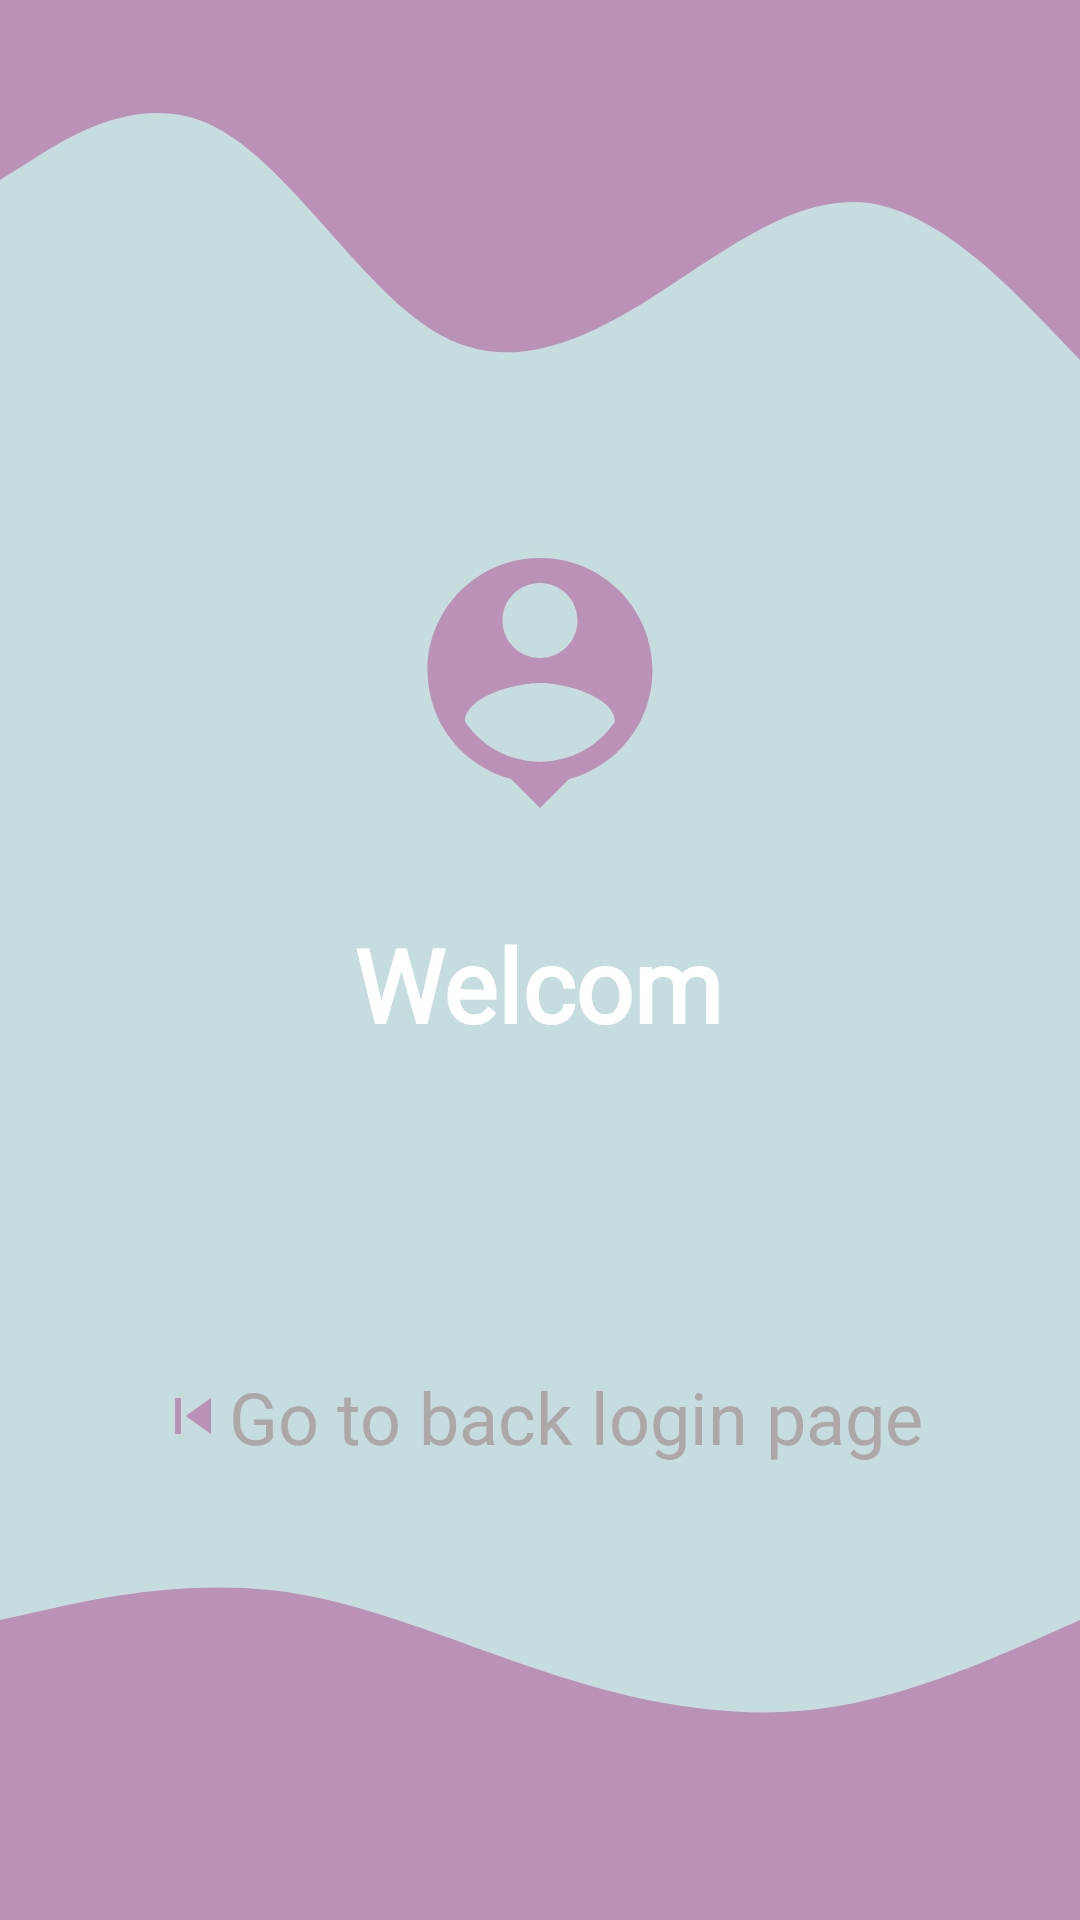

Point at icon controls on the screen. Image size 1080px×1920px, points as point (x, y).
person pin: point (540, 683)
